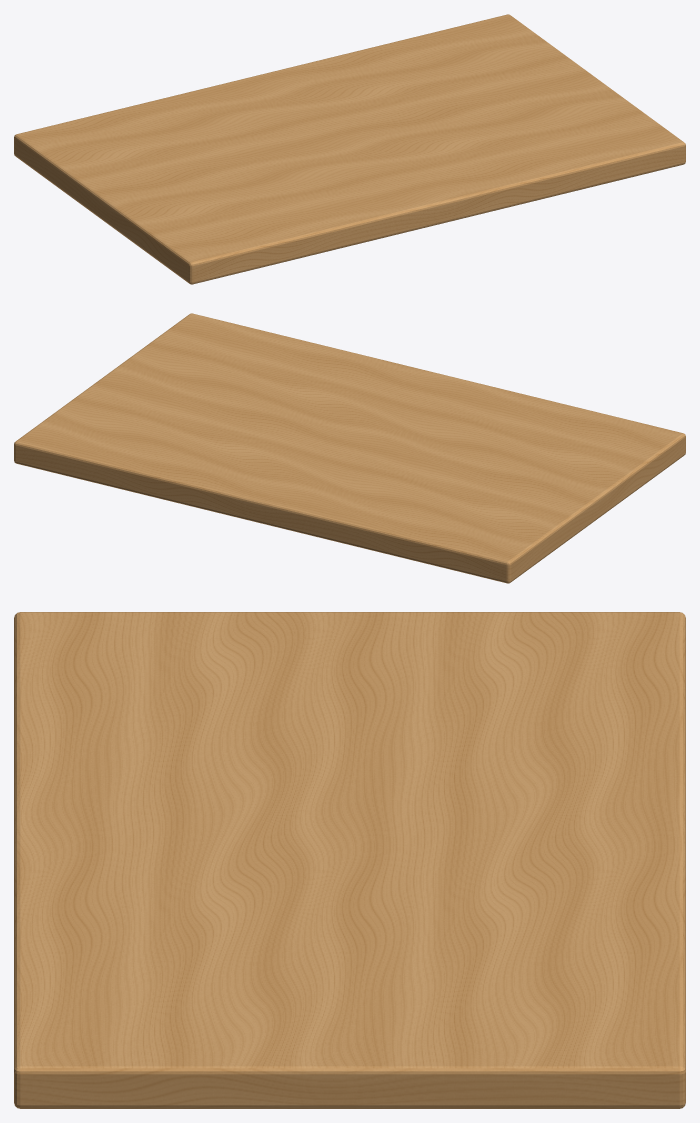
Rendered from table.glb.
3 renders of one model, top to bottom at view 1: azimuth 30°, elevation 25°; view 2: azimuth 150°, elevation 25°; view 3: azimuth 270°, elevation 25°, orthographic. The views are drawn at different scales.
Visible parts, largest first — view 1: table; view 2: table; view 3: table.
Part boxes in pixels (left/top/right/bottom): table: left=14, top=14, right=685, bottom=284; table: left=14, top=313, right=685, bottom=583; table: left=14, top=612, right=685, bottom=1108.
Bounding box in the file's own units: 0.42 × 0.018 × 0.26.
1 material, 1 textured.
